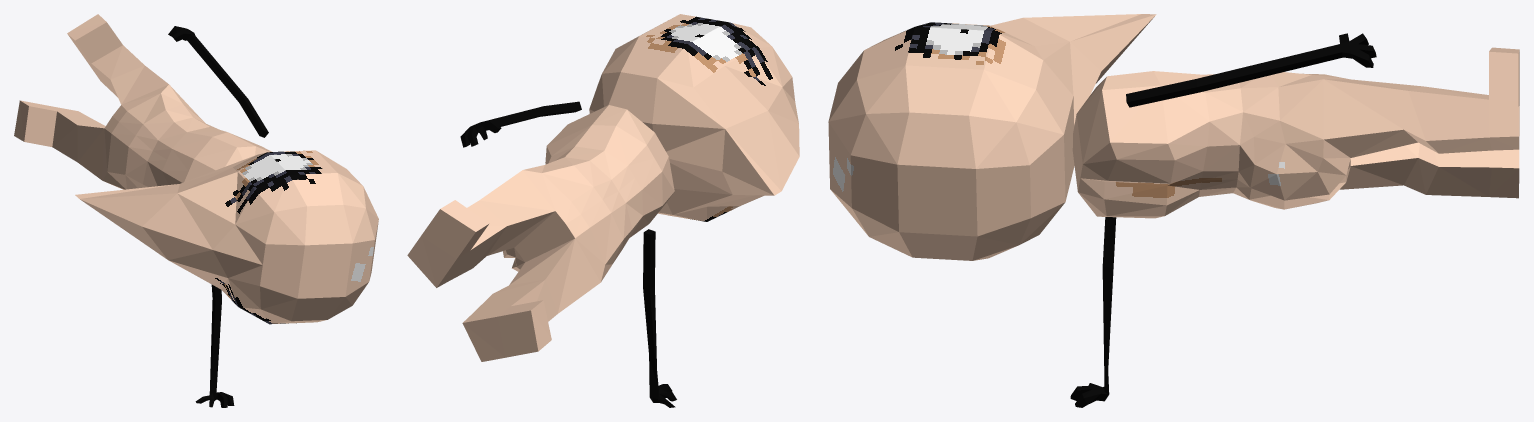
The model's file is impKing_defend.obj.
3 views of the same model, side by side, from view 1: azimuth 30°, elevation 25°; view 2: azimuth 150°, elevation 25°; view 3: azimuth 270°, elevation 25° (orthographic). The views are drawn at different scales.
Parts seen in each view (by area): view 1: Cube.018; view 2: Cube.018; view 3: Cube.018.
Boxes of the visible parts, x1,y1,x2,y2 form: Cube.018: (14, 14, 378, 407); Cube.018: (407, 14, 799, 407); Cube.018: (828, 14, 1519, 407).
Bounding box in the file's own units: 3.86 × 4.99 × 7.7.
